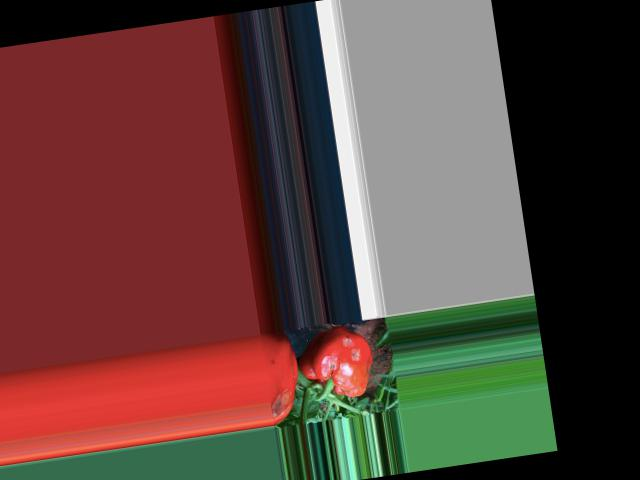bell_pepper: (295, 318, 375, 410)
